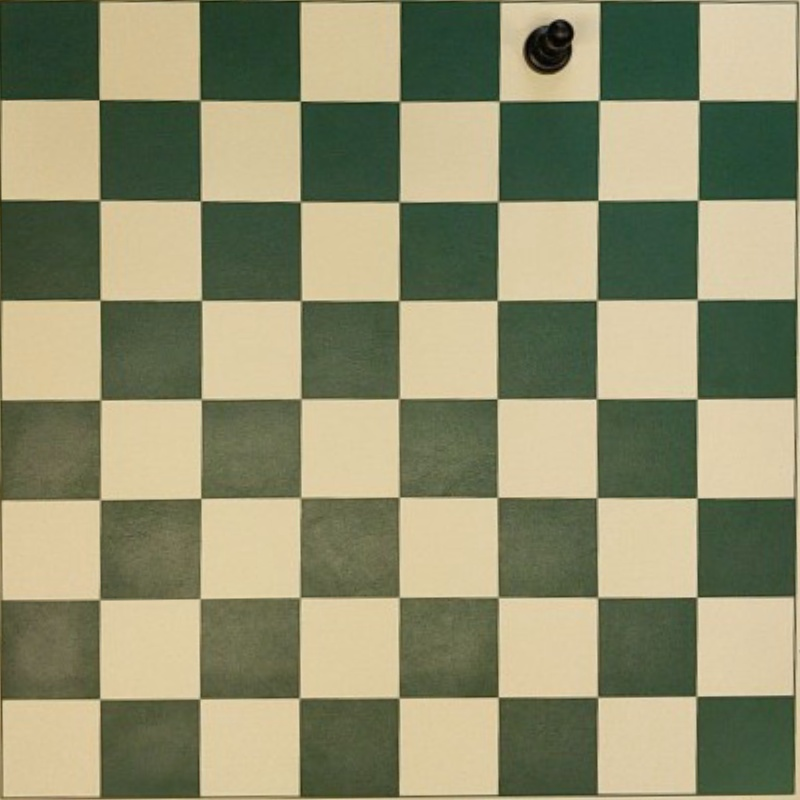black-pawn: (524, 18, 575, 73)
